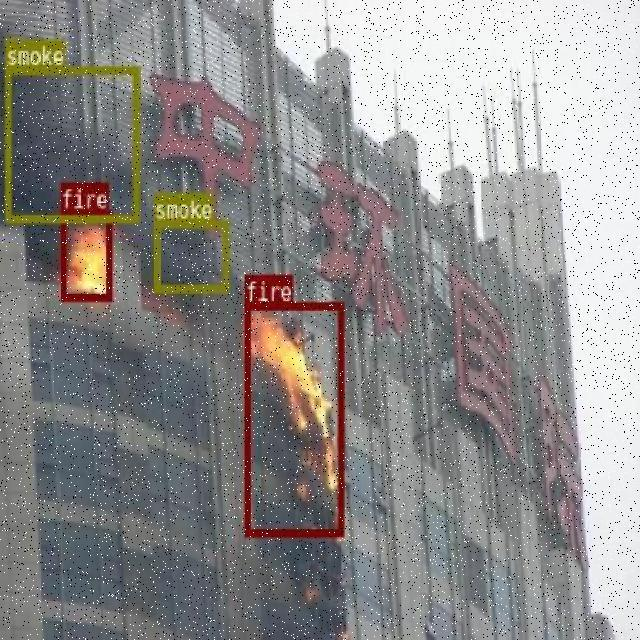Smoke: (36, 28, 106, 120), (89, 219, 163, 292)
